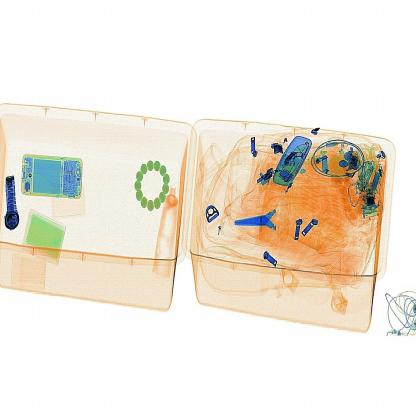gun: (230, 201, 298, 243)
